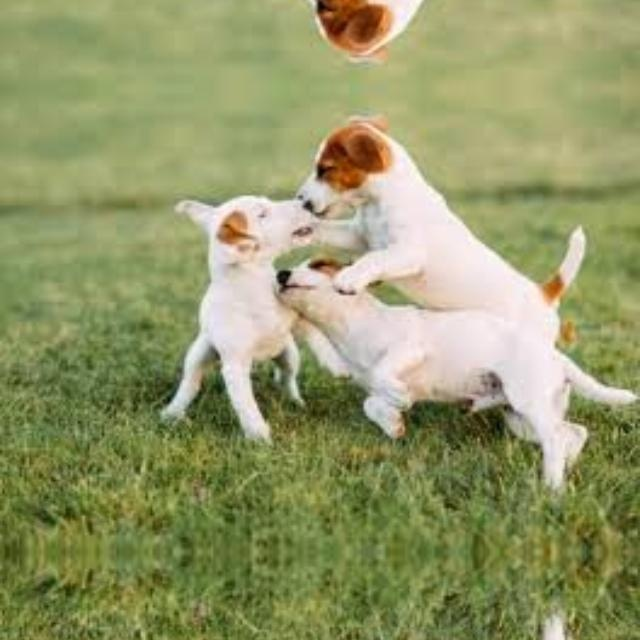dog: (156, 152, 317, 480), (155, 0, 316, 24), (155, 622, 316, 640)
